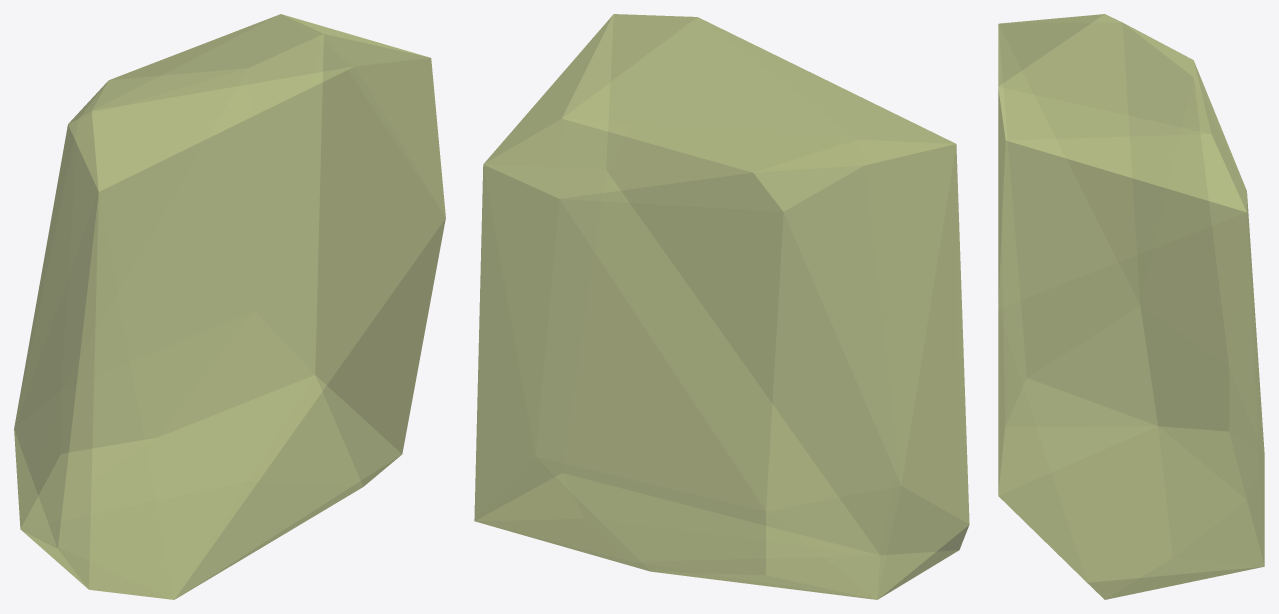
3 views of the same model, side by side, from view 1: azimuth 30°, elevation 25°; view 2: azimuth 150°, elevation 25°; view 3: azimuth 270°, elevation 25° (orthographic).
Visible parts, largest first — view 1: Shape_IndexedFaceSet.002_Shape_IndexedFaceSet.17686; view 2: Shape_IndexedFaceSet.002_Shape_IndexedFaceSet.17686; view 3: Shape_IndexedFaceSet.002_Shape_IndexedFaceSet.17686.
Part boxes in pixels (bbox=[...]): Shape_IndexedFaceSet.002_Shape_IndexedFaceSet.17686: bbox=[14, 14, 445, 599]; Shape_IndexedFaceSet.002_Shape_IndexedFaceSet.17686: bbox=[474, 14, 969, 599]; Shape_IndexedFaceSet.002_Shape_IndexedFaceSet.17686: bbox=[998, 14, 1264, 599].
Bounding box in the file's own units: 0.0647 × 0.0809 × 0.0391.
